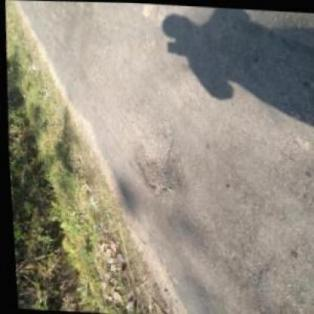Hueco: (132, 132, 178, 195)
